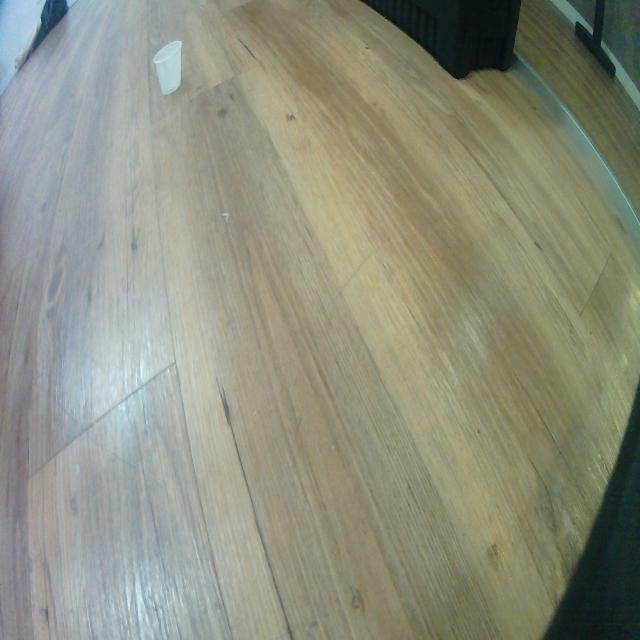planta: (154, 40, 182, 96)
